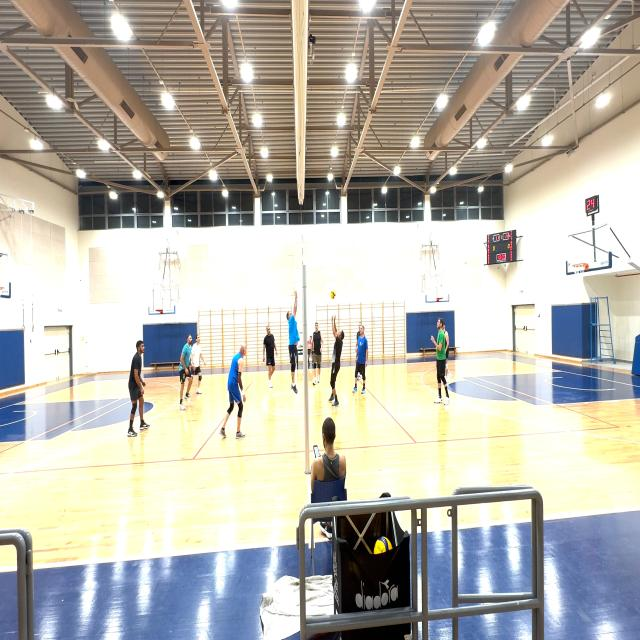volleyball: (373, 536, 393, 555), (330, 290, 335, 299)
